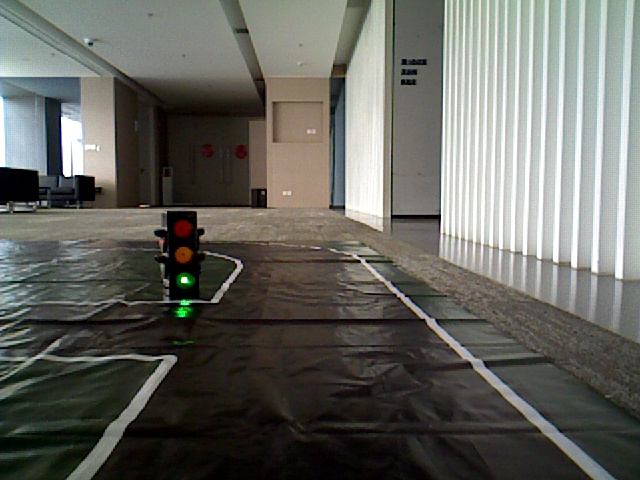green: (168, 215, 198, 286)
